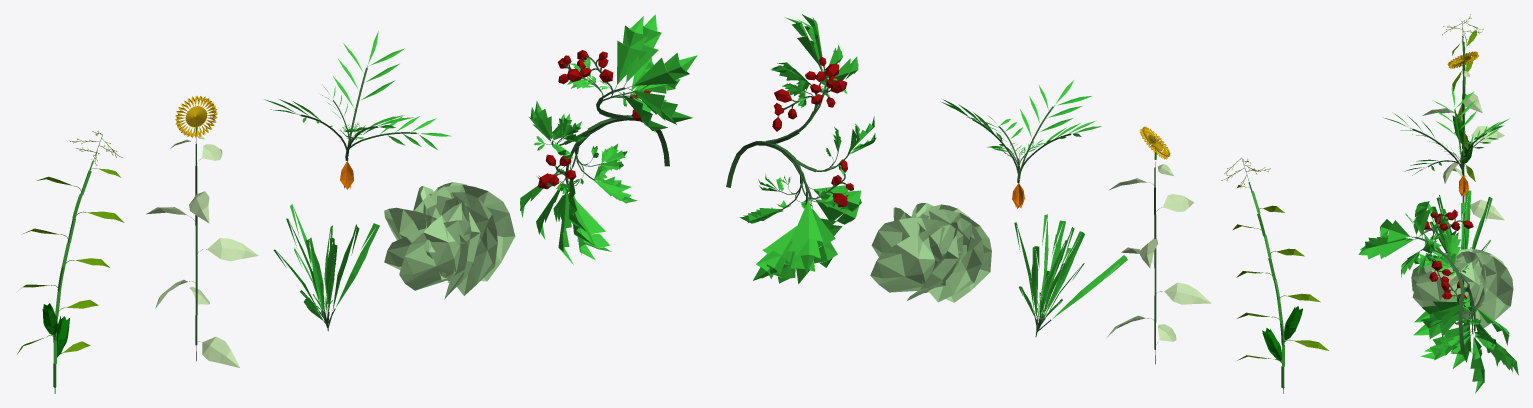
Rendered from Garden plants_saved.obj.
The picture shows the model from 3 angles, left to right: view 1: azimuth 30°, elevation 25°; view 2: azimuth 150°, elevation 25°; view 3: azimuth 270°, elevation 25°; orthographic projection. The views are drawn at different scales.
Parts seen in each view (by area): view 1: tomato, cabbage, sunflowe, onion, corn, carrot; view 2: tomato, cabbage, onion, sunflowe, corn, carrot; view 3: tomato, cabbage, sunflowe, carrot, onion, corn.
Boxes of the visible parts, x1=… form: tomato: x1=520, y1=14, x2=697, y2=264; cabbage: x1=384, y1=182, x2=515, y2=299; sunflowe: x1=146, y1=96, x2=258, y2=367; onion: x1=273, y1=204, x2=379, y2=331; corn: x1=17, y1=130, x2=124, y2=393; carrot: x1=264, y1=31, x2=451, y2=189; tomato: x1=726, y1=14, x2=876, y2=284; cabbage: x1=870, y1=203, x2=991, y2=302; onion: x1=1014, y1=214, x2=1127, y2=336; sunflowe: x1=1107, y1=126, x2=1211, y2=364; corn: x1=1221, y1=158, x2=1328, y2=393; carrot: x1=940, y1=80, x2=1101, y2=208; tomato: x1=1358, y1=201, x2=1518, y2=393; cabbage: x1=1411, y1=249, x2=1513, y2=327; sunflowe: x1=1418, y1=51, x2=1504, y2=236; carrot: x1=1383, y1=87, x2=1509, y2=196; onion: x1=1405, y1=190, x2=1492, y2=253; corn: x1=1442, y1=14, x2=1483, y2=181.
Size of the model in its own units: 350 by 134 by 98.96.
